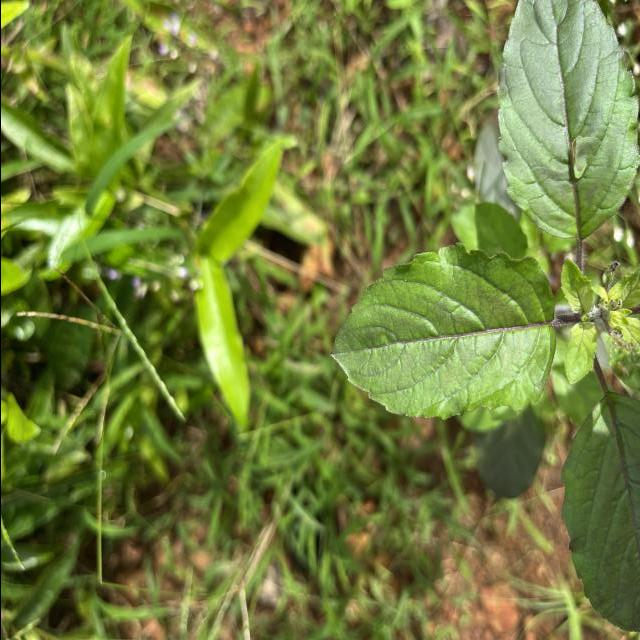Ocimum tenuiflorum: (328, 240, 559, 422)
